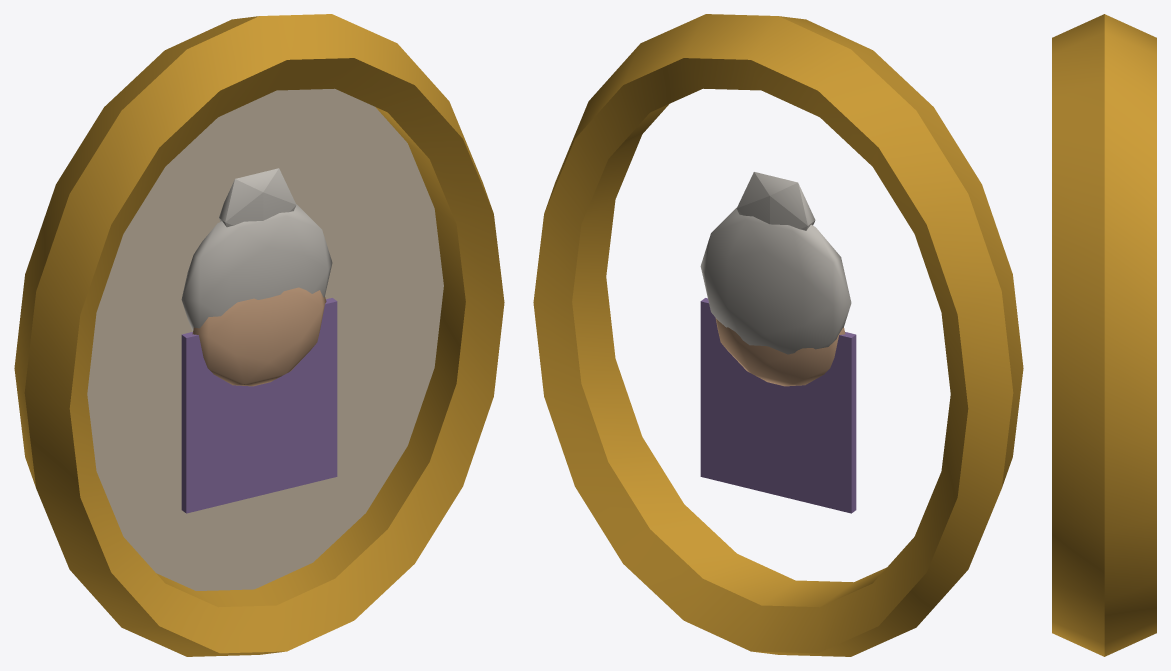
File: hazel_portrait.glb
The picture shows the model from 3 angles, left to right: view 1: azimuth 30°, elevation 25°; view 2: azimuth 150°, elevation 25°; view 3: azimuth 270°, elevation 25°; orthographic projection. The views are drawn at different scales.
Visible parts, largest first — view 1: furniture-hazel_portrait; view 2: furniture-hazel_portrait; view 3: furniture-hazel_portrait.
Boxes of the visible parts, bbox=[...] form: furniture-hazel_portrait: bbox=[14, 14, 504, 656]; furniture-hazel_portrait: bbox=[533, 14, 1023, 656]; furniture-hazel_portrait: bbox=[1052, 14, 1156, 656].
Bounding box in the file's own units: 0.56 × 0.728 × 0.1141.
